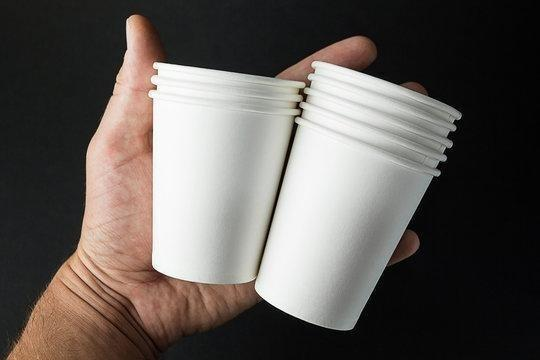cup-disposable: (253, 56, 463, 333), (144, 55, 304, 288)
